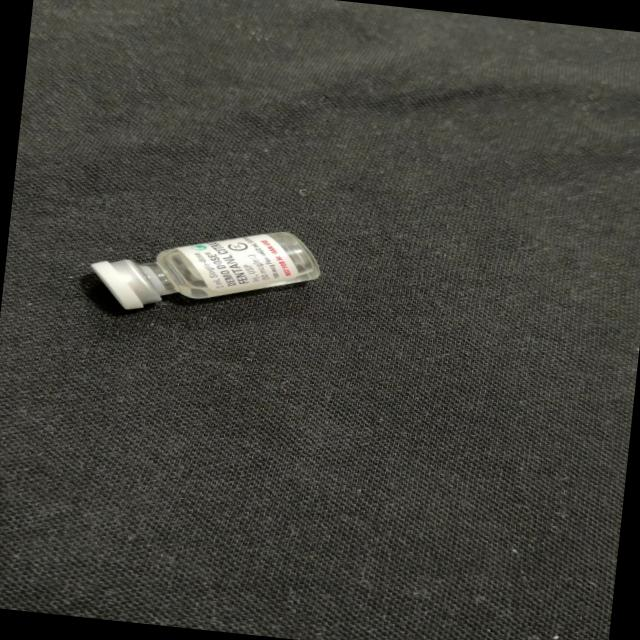fentanl_citrat: (88, 212, 320, 328)
